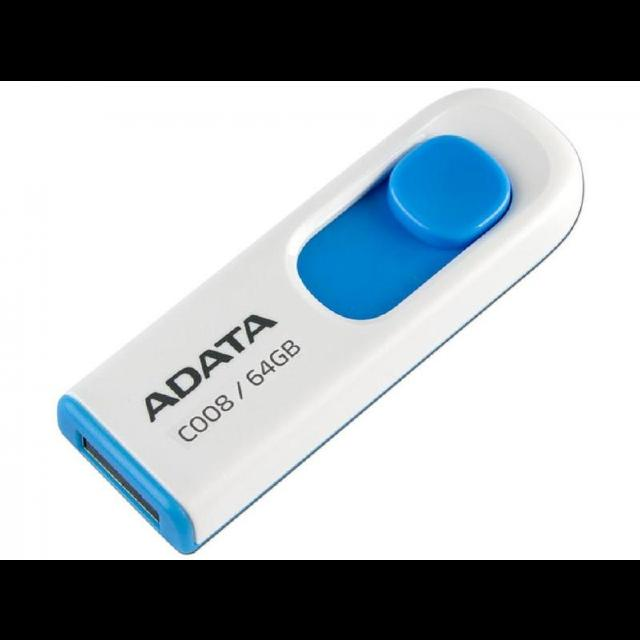USB-Flash-Drive: (53, 87, 588, 557)
